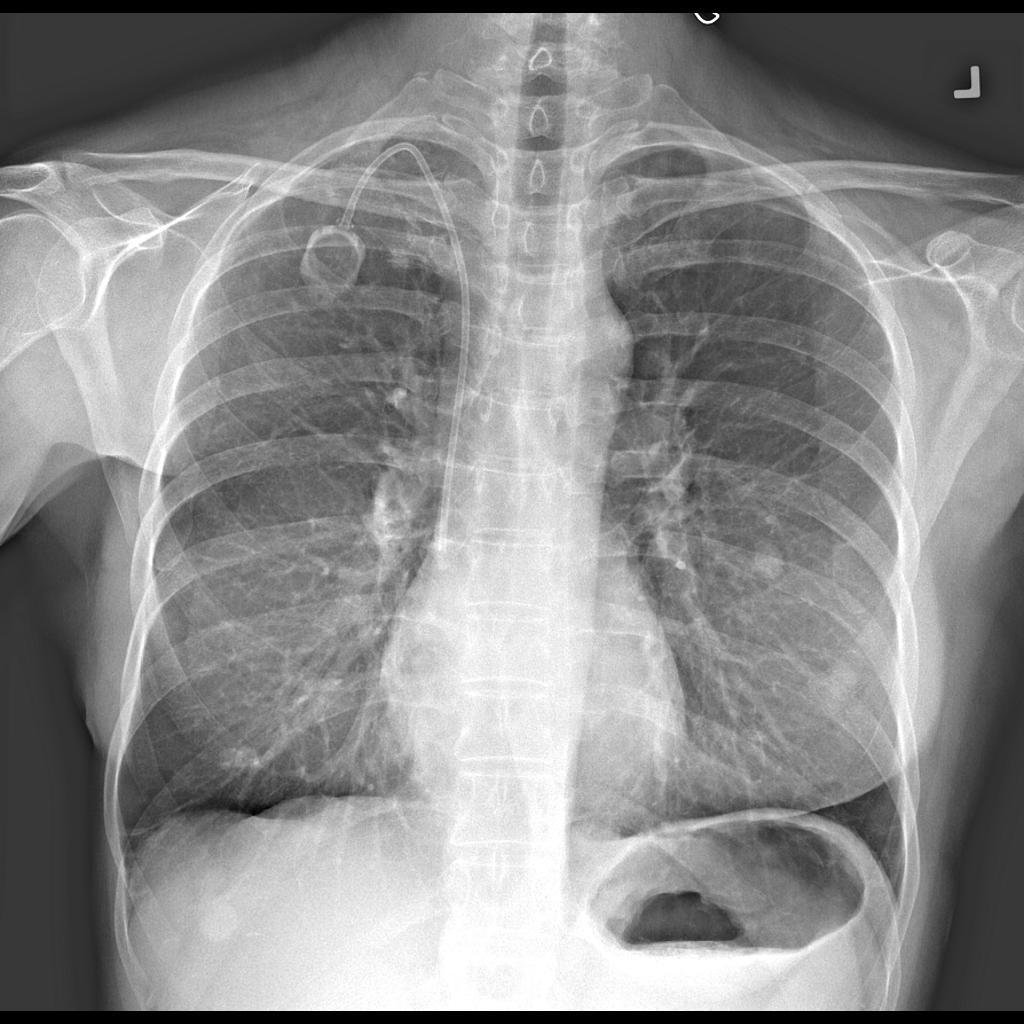Nodule: (746, 538, 788, 594), (222, 736, 262, 771)
